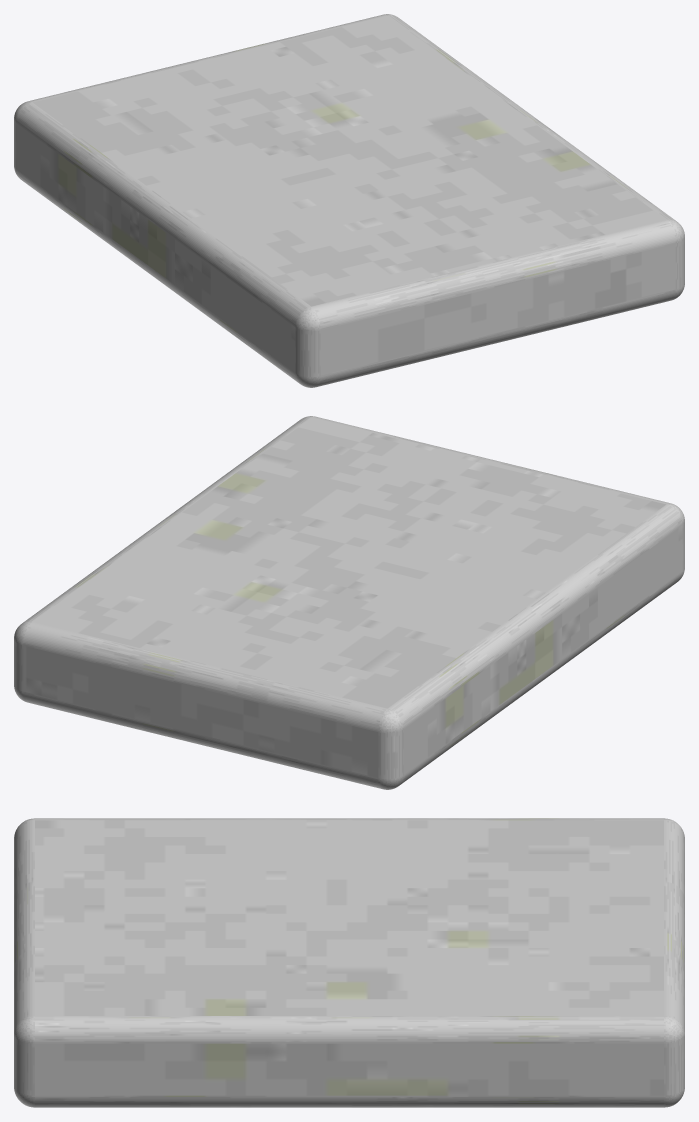
Rendered from matelas.glb.
The picture shows the model from 3 angles, top to bottom: view 1: azimuth 30°, elevation 25°; view 2: azimuth 150°, elevation 25°; view 3: azimuth 270°, elevation 25°; orthographic projection. The views are drawn at different scales.
Parts seen in each view (by area): view 1: Matelas; view 2: Matelas; view 3: Matelas.
Part boxes in pixels (left/top/right/bottom): Matelas: left=14, top=14, right=684, bottom=387; Matelas: left=14, top=416, right=684, bottom=789; Matelas: left=14, top=818, right=684, bottom=1107.
Bounding box in the file's own units: 16.35 × 3.21 × 21.75.
Materials: 1 (1 with a texture image).
